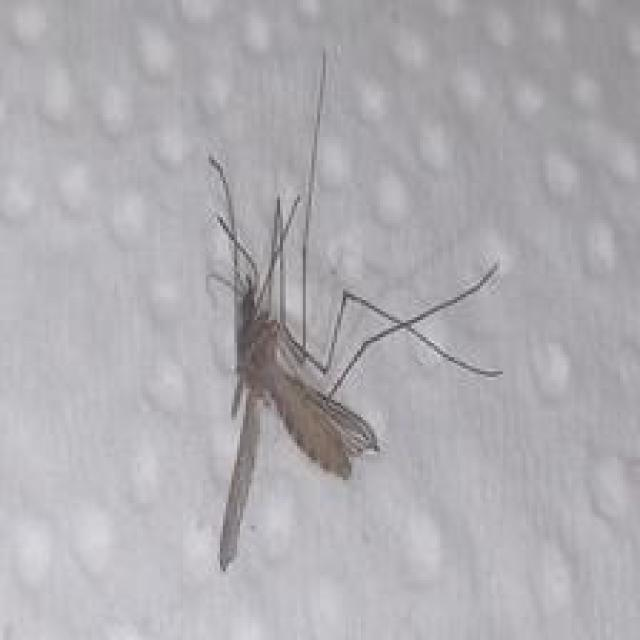Culex: (202, 47, 504, 573)
